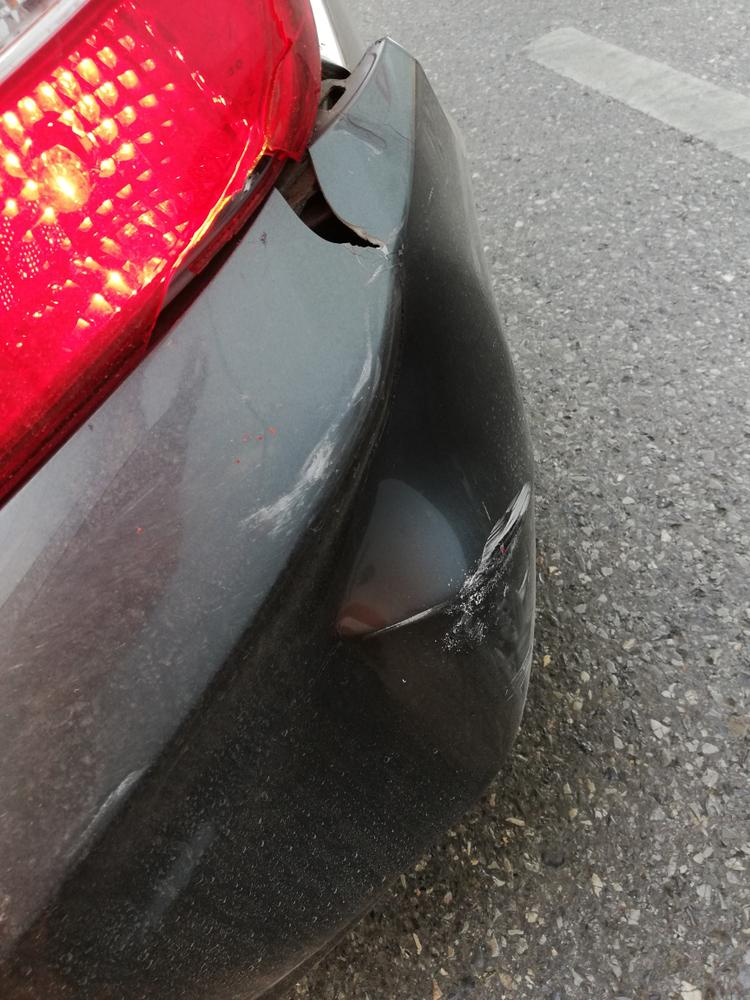crack: (277, 149, 389, 250)
scratch: (239, 328, 383, 545), (368, 476, 536, 644)
